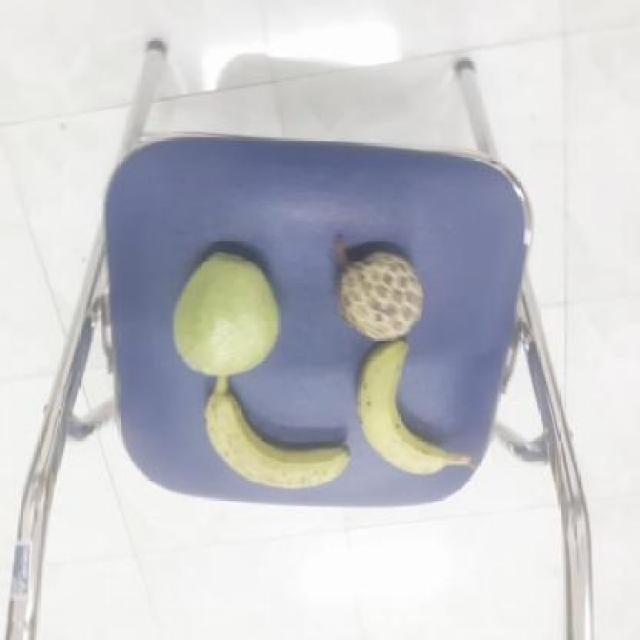banana: (199, 382, 347, 489), (349, 343, 457, 475)
guava: (167, 254, 281, 377)
sugar apple: (330, 251, 422, 340)
